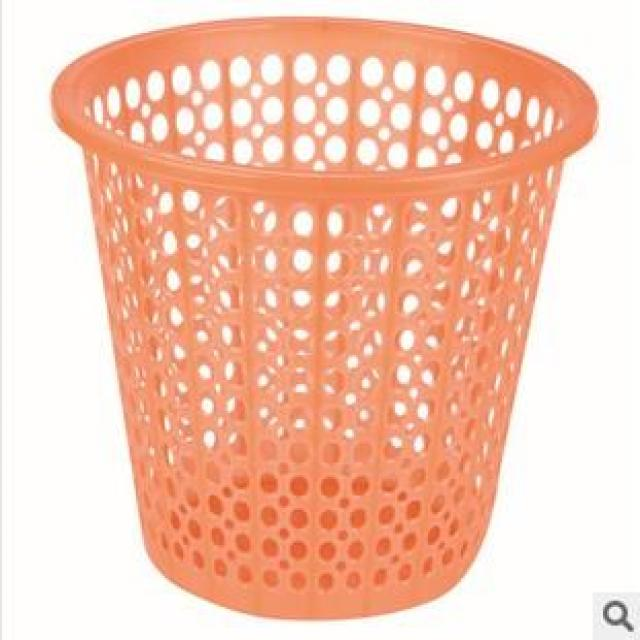dustbin: (44, 8, 597, 625)
